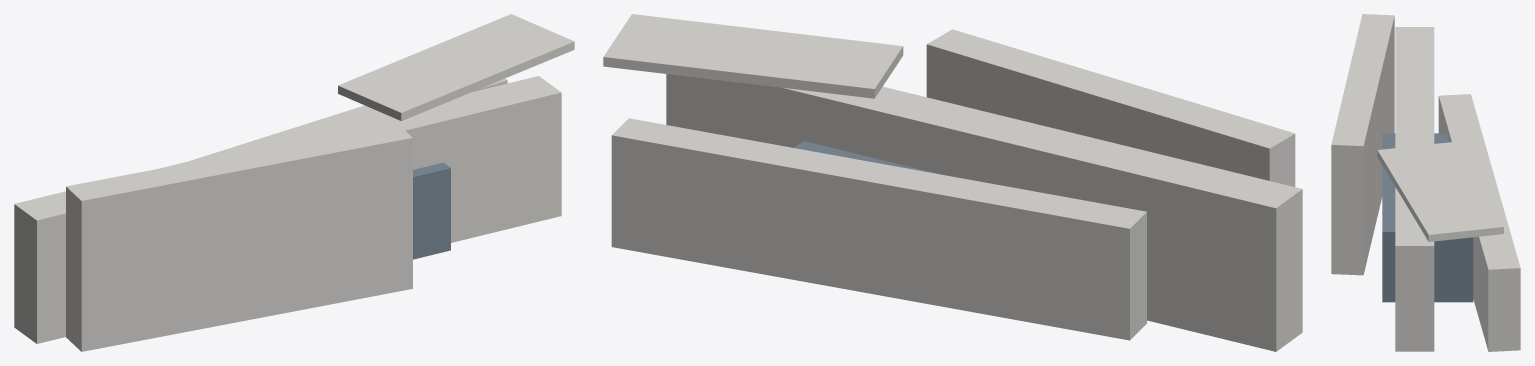
The model's file is weil-vitra-feuerwehrhaus.glb.
The picture shows the model from 3 angles, left to right: view 1: azimuth 30°, elevation 25°; view 2: azimuth 150°, elevation 25°; view 3: azimuth 270°, elevation 25°; orthographic projection. The views are drawn at different scales.
Visible parts, largest first — view 1: building; view 2: building; view 3: building.
Boxes of the visible parts, x1,y1,x2,y2 form: building: (14, 14, 574, 351); building: (603, 14, 1302, 351); building: (1331, 14, 1520, 351).
Bounding box in the file's own units: 42.49 × 11.1 × 14.6.
